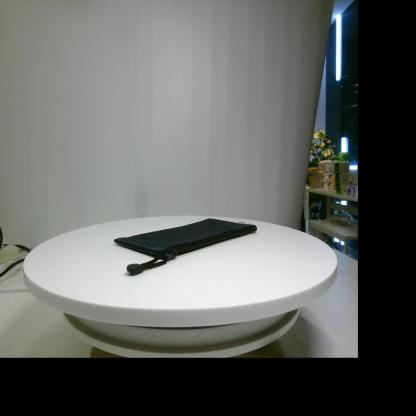Stationery: (114, 218, 257, 276)
